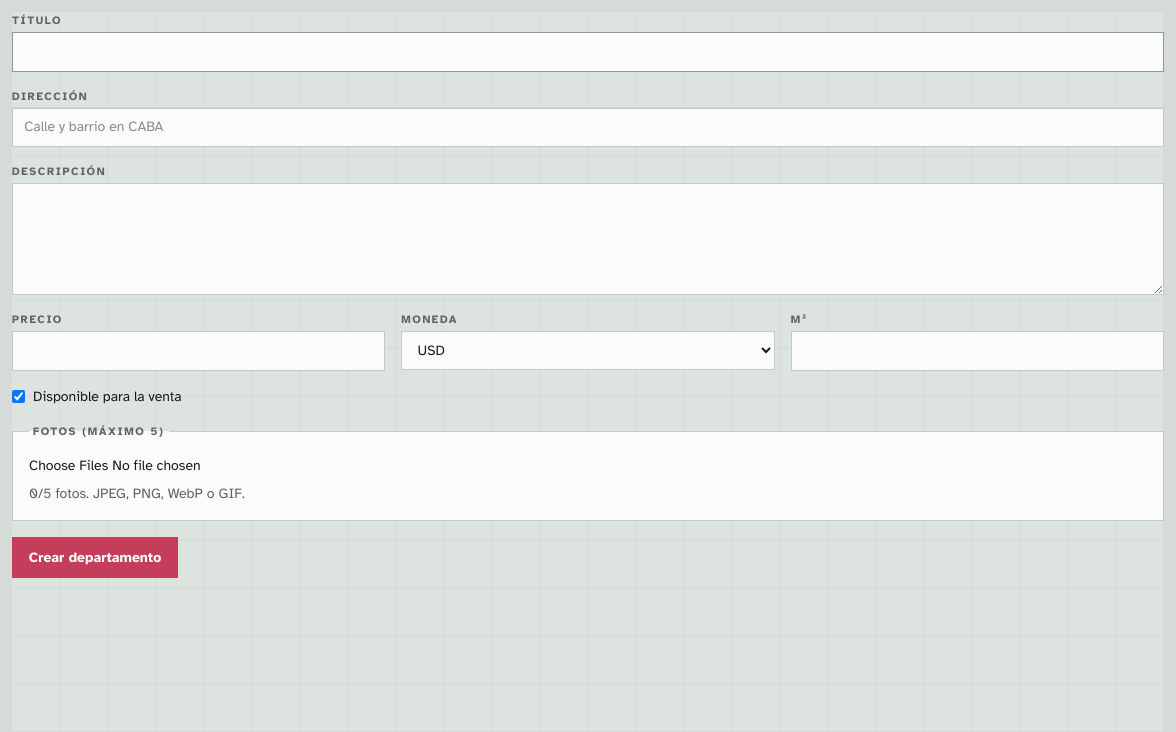
DepartmentForm › muestra errores si se envía vacío
Step 1. Click the button "Crear departamento" → [95, 558], box left=12, top=537, right=178, bottom=578
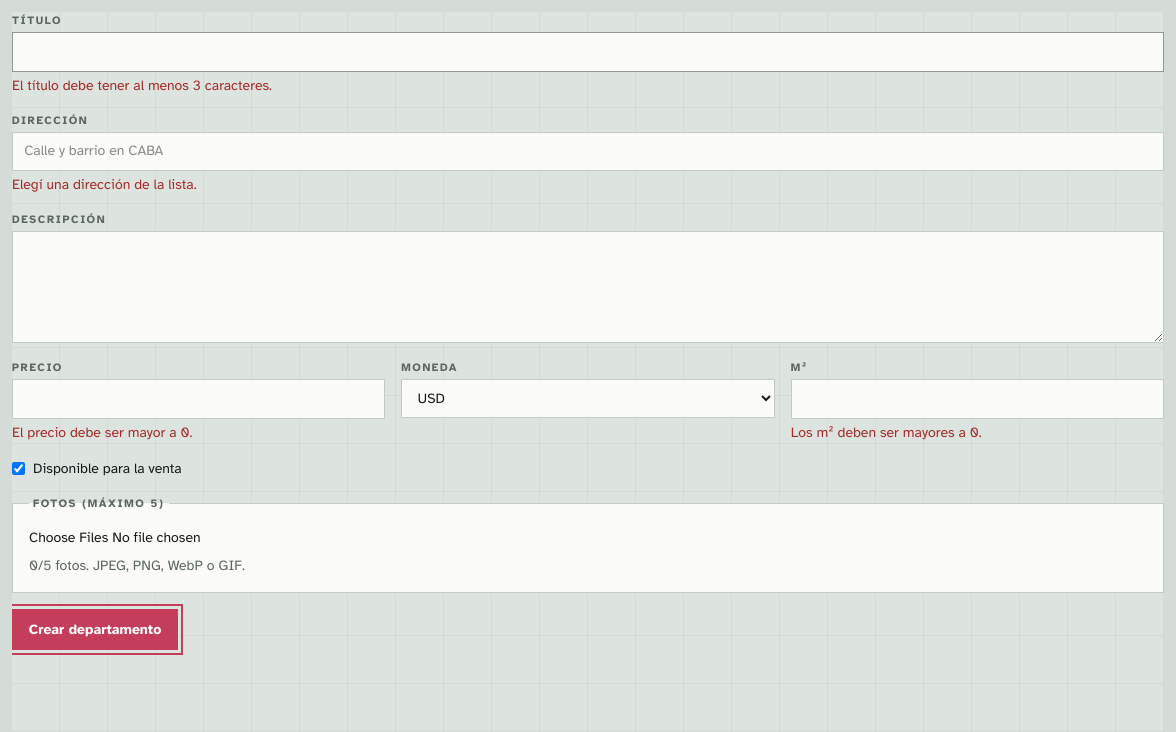
expect the text "El título debe tener al menos 3 caracteres." is shown: met, box left=12, top=77, right=272, bottom=94
expect the text "Elegí una dirección de la lista." is shown: met, box left=12, top=176, right=196, bottom=193
expect the text "El precio debe ser mayor a 0." is shown: met, box left=12, top=424, right=192, bottom=441
